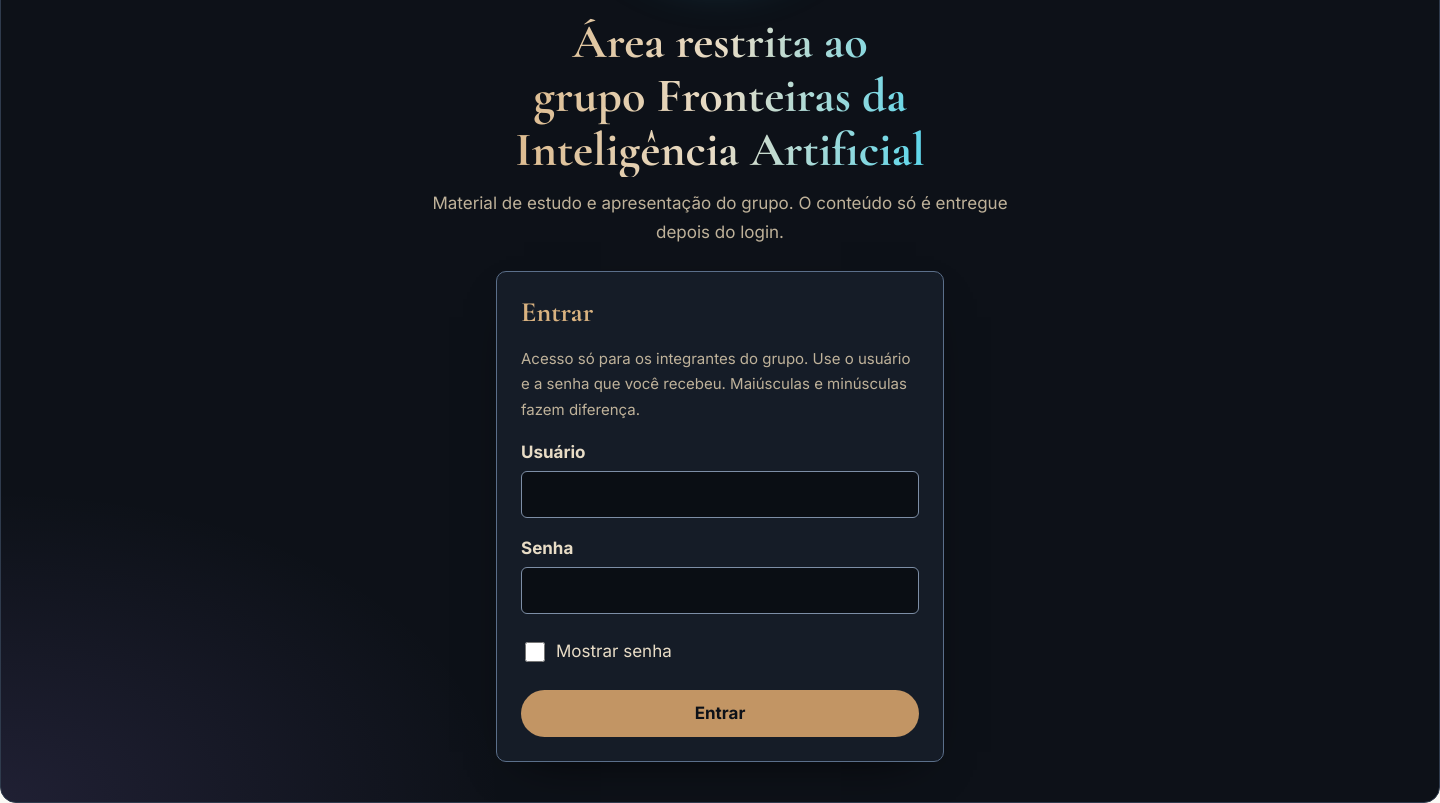
AreaRestrita › login normal leva ao conteúdo, com a equipe e as abas
The image size is (1440, 803).
(page scrolled)
Step 1. Type "u" into the field named "usuario" → (720, 495), box x1=521 y1=471 x2=919 y2=518
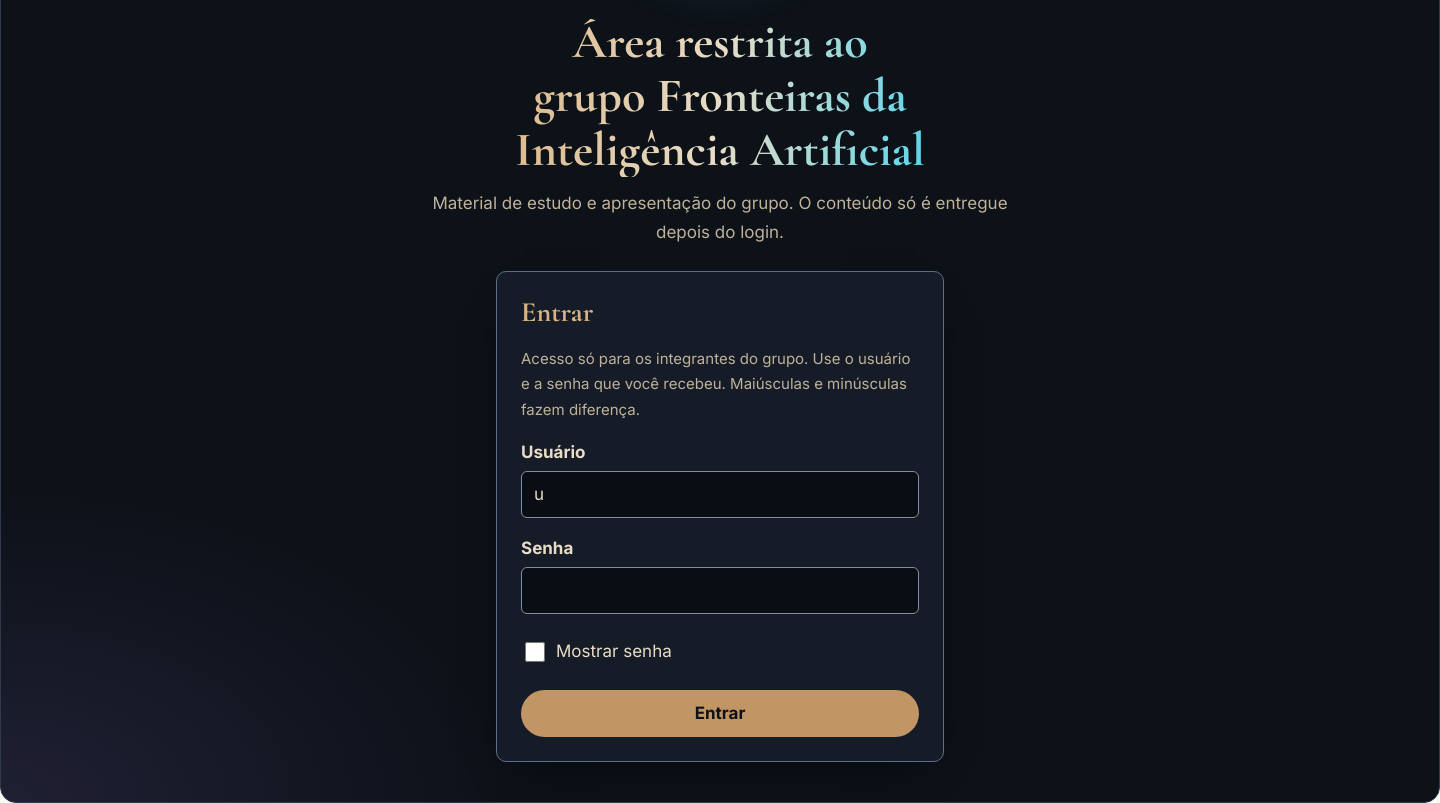
Step 2. Type "s" into the password field named "senha" → (720, 590), box x1=521 y1=567 x2=919 y2=614
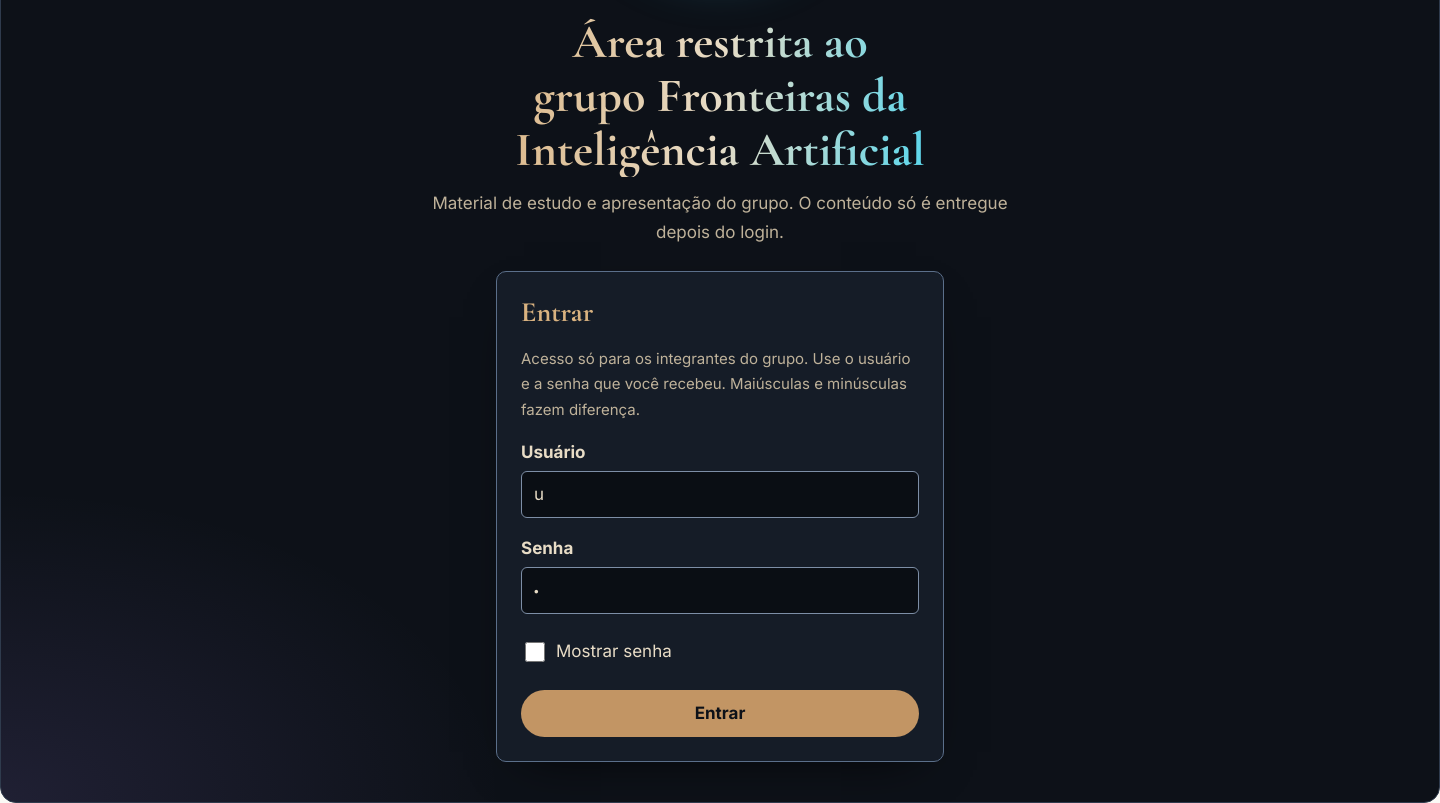
Step 3. Submit the form, box x1=496 y1=271 x2=944 y2=762
(page scrolled)
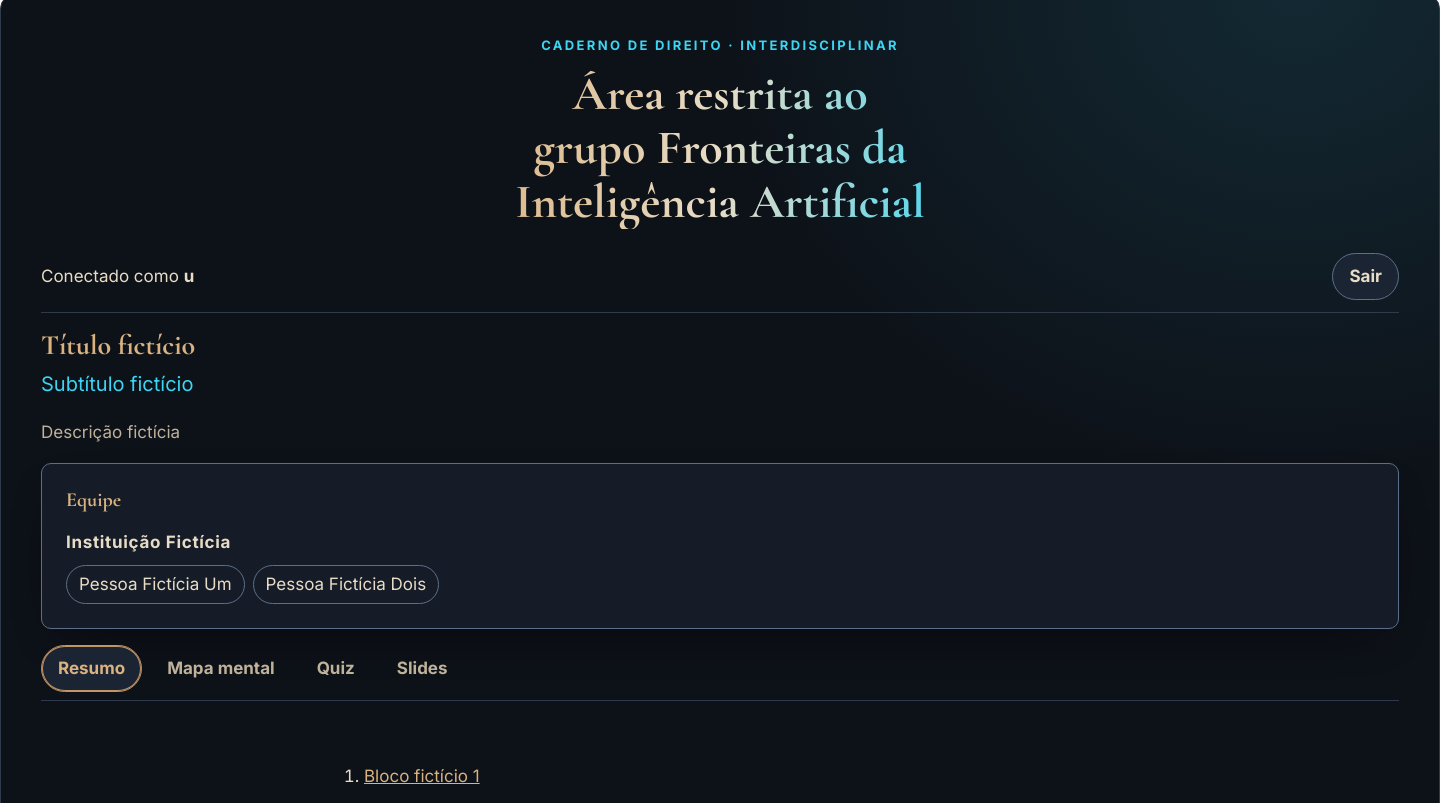
expect the element with class "ar-visor__equipe" shows "Instituição Fictícia": met, box x1=66 y1=532 x2=231 y2=552
expect the number of tabs is 4: met, box x1=41 y1=645 x2=142 y2=692; x1=150 y1=645 x2=292 y2=692; x1=300 y1=645 x2=372 y2=692; x1=380 y1=645 x2=464 y2=692
expect the element with class "ar-sessao" shows "u": met, box x1=184 y1=266 x2=194 y2=286
